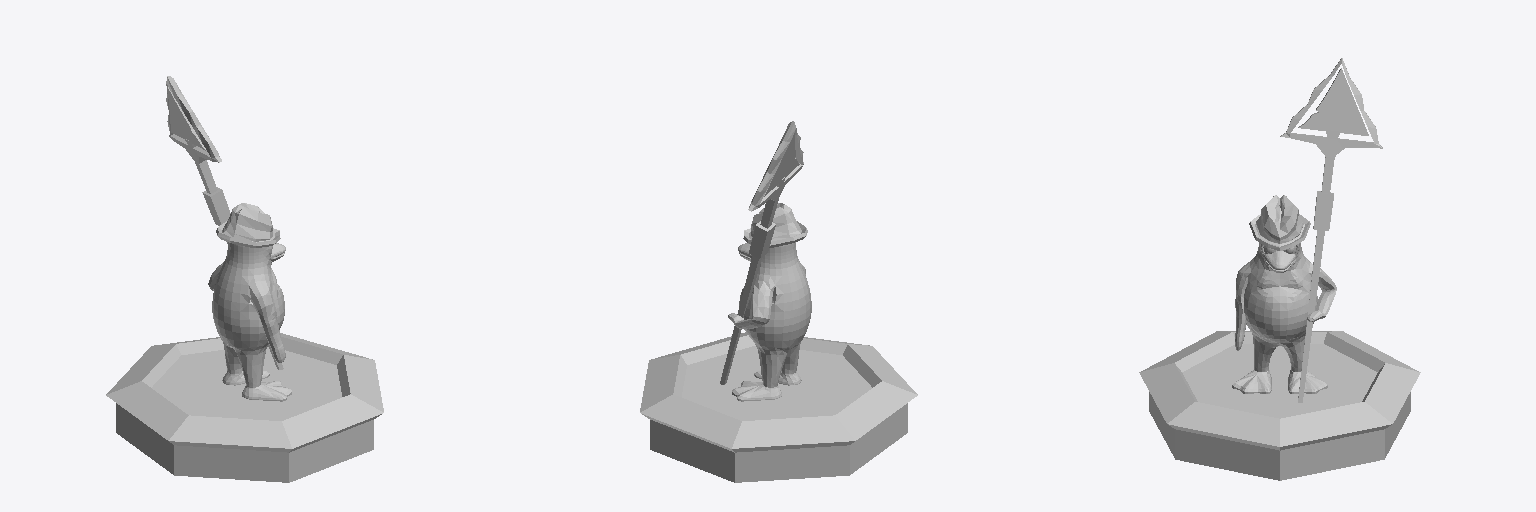
The model's file is Base Bishop.obj.
3 views of the same model, side by side, from view 1: azimuth 30°, elevation 25°; view 2: azimuth 150°, elevation 25°; view 3: azimuth 270°, elevation 25° (orthographic).
Parts seen in each view (by area): view 1: [MESH]_Base_Circle.001; view 2: [MESH]_Base_Circle.001; view 3: [MESH]_Base_Circle.001.
Part boxes in pixels (x1,y1,x2,y2): [MESH]_Base_Circle.001: (106,76,383,482); [MESH]_Base_Circle.001: (640,121,917,482); [MESH]_Base_Circle.001: (1139,58,1420,480).
Size of the model in its own units: 1.85 by 2.54 by 1.89.